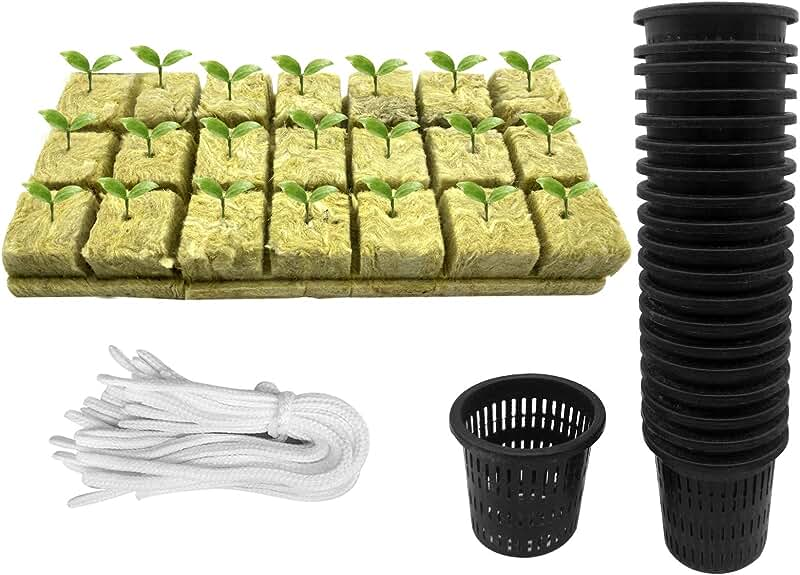basket: (433, 355, 607, 560), (637, 428, 793, 575)
